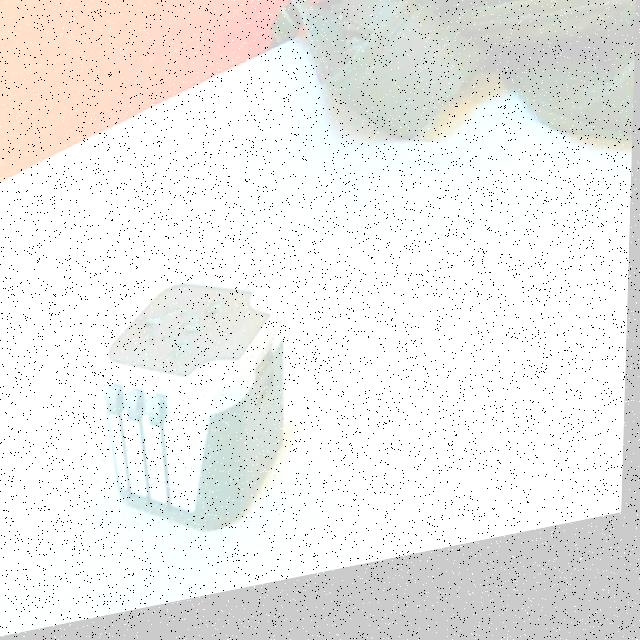adapter: (99, 269, 291, 558)
